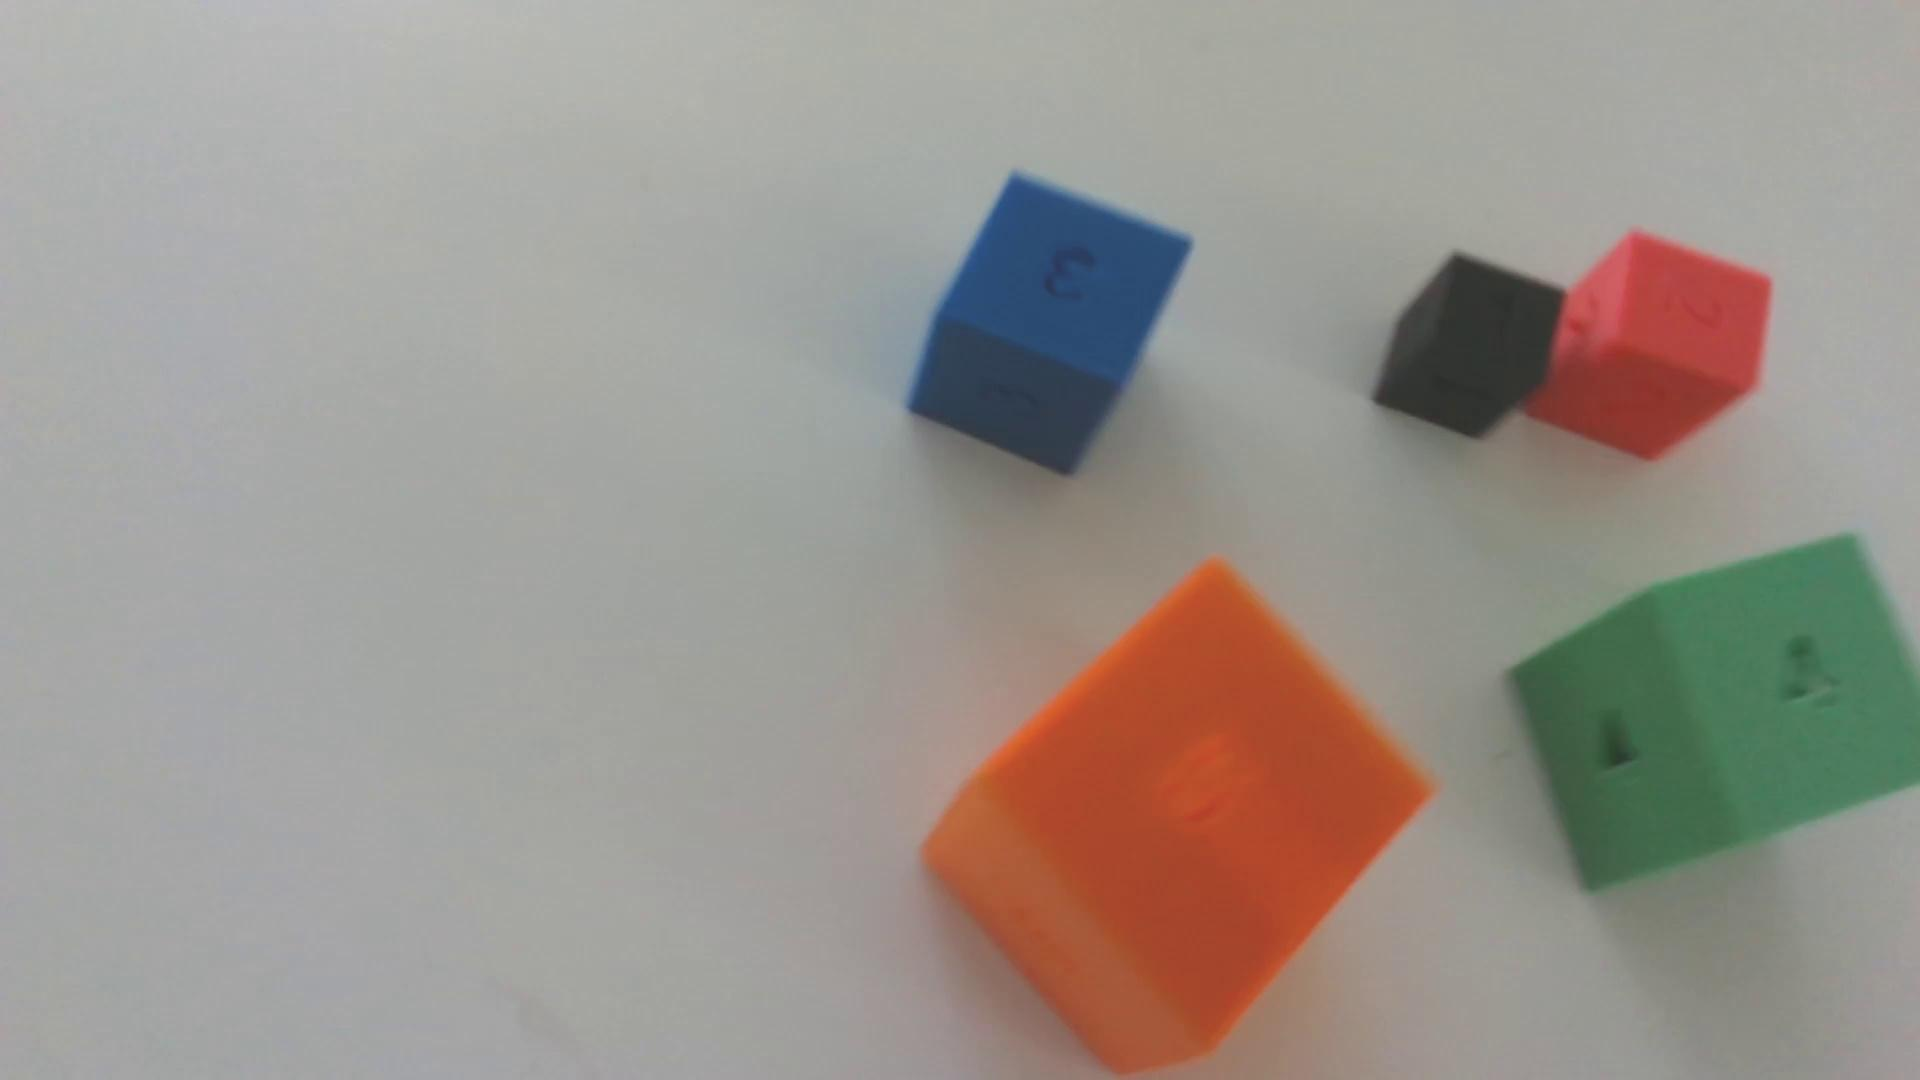black: (1373, 255, 1564, 440)
blue: (909, 175, 1189, 475)
green: (1509, 535, 1920, 891)
orange: (924, 562, 1429, 1073)
red: (1524, 233, 1771, 462)
